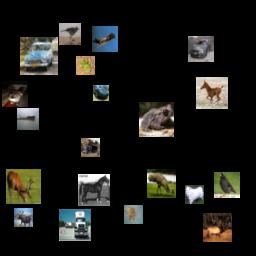airplane: (92, 26, 118, 52)
automobile: (20, 37, 58, 75), (188, 36, 214, 62), (93, 85, 109, 101)
bird: (147, 169, 176, 198), (214, 172, 240, 198), (59, 23, 81, 45)
cat: (2, 81, 28, 107), (124, 205, 143, 224)
deer: (6, 169, 41, 204), (203, 213, 232, 242), (14, 208, 33, 227)
dog: (185, 185, 204, 204)
frog: (139, 102, 174, 137), (76, 56, 95, 75)
ship: (17, 108, 39, 130)
truck: (59, 209, 91, 241), (81, 138, 100, 157)
